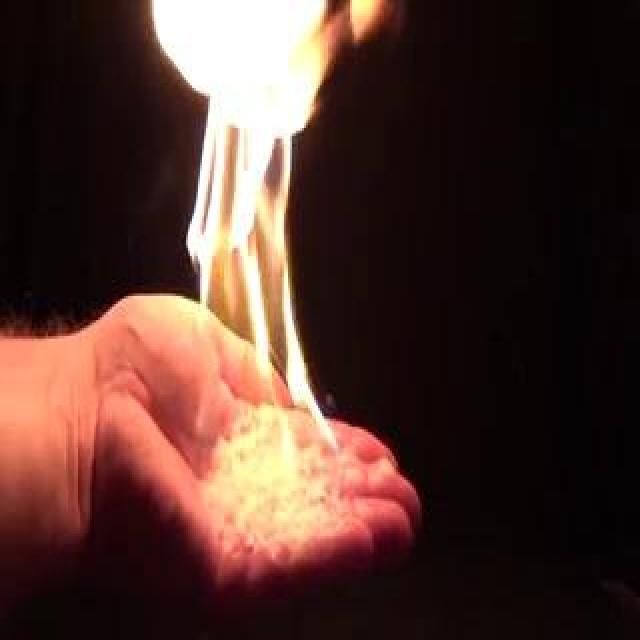Fire: (149, 3, 343, 488)
